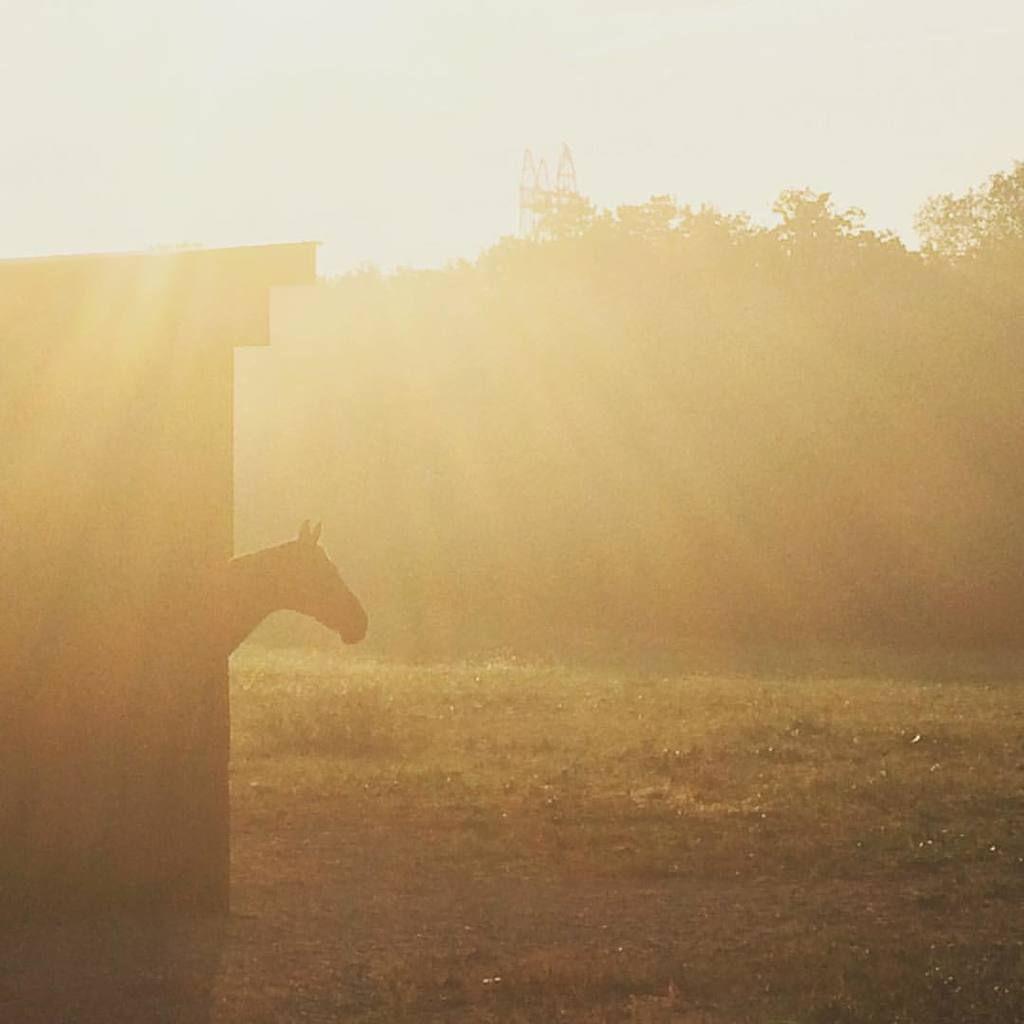Tree: (229, 146, 1023, 654)
